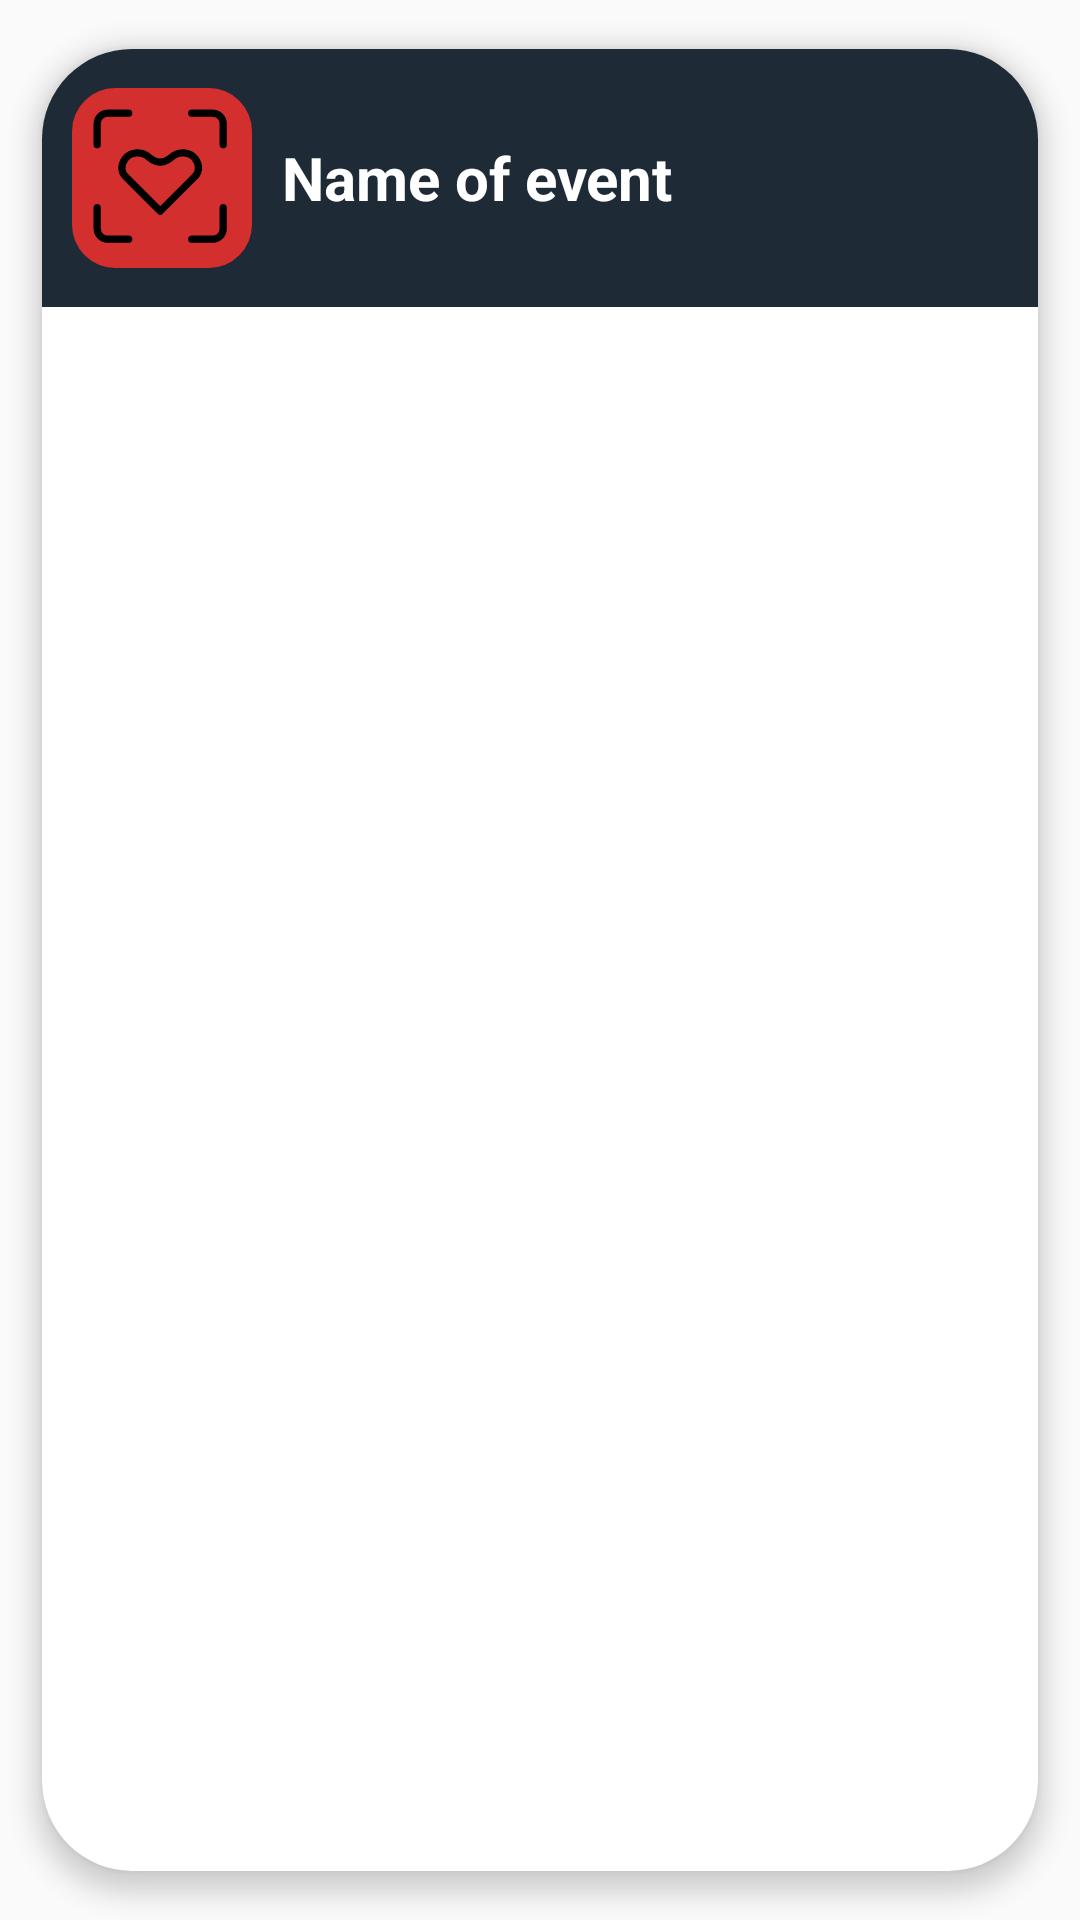

Icon bounding boxes for this 1080×1920 phone screenshot, format [x1=x1, y1=y1, x2=x2, y2=y2]:
healthtech: [x1=72, y1=88, x2=252, y2=268]
